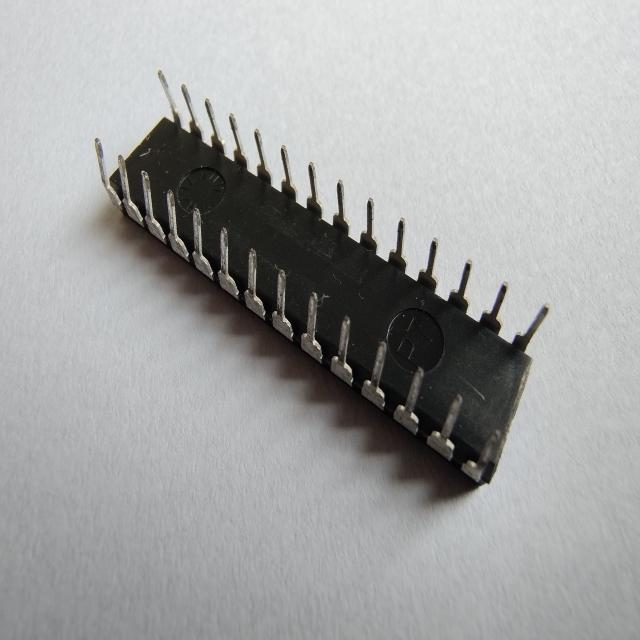atmega: (92, 68, 552, 490)
